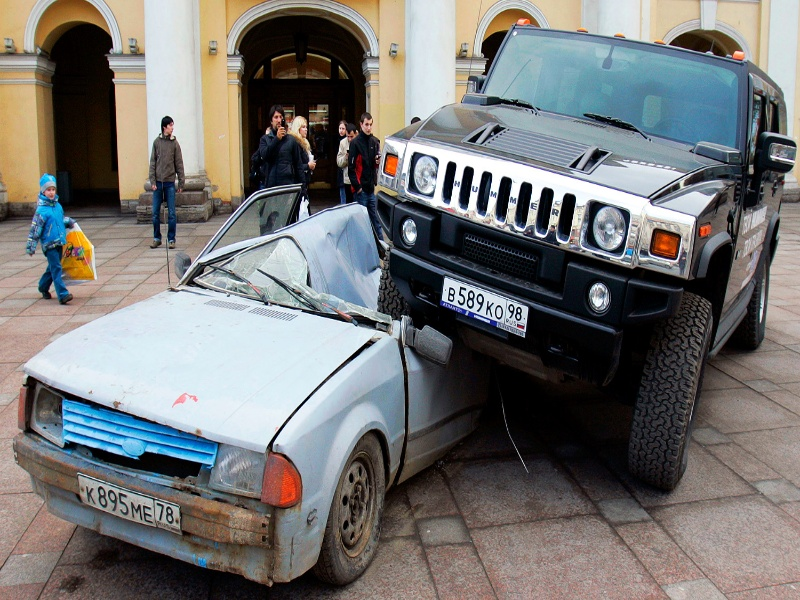car: (377, 20, 797, 488), (15, 185, 474, 581)
person: (24, 173, 74, 304), (148, 116, 186, 248), (348, 112, 385, 240), (259, 108, 288, 189), (287, 116, 315, 183), (336, 124, 358, 202), (334, 121, 347, 137)
plate: (77, 473, 180, 533), (440, 275, 528, 338)
